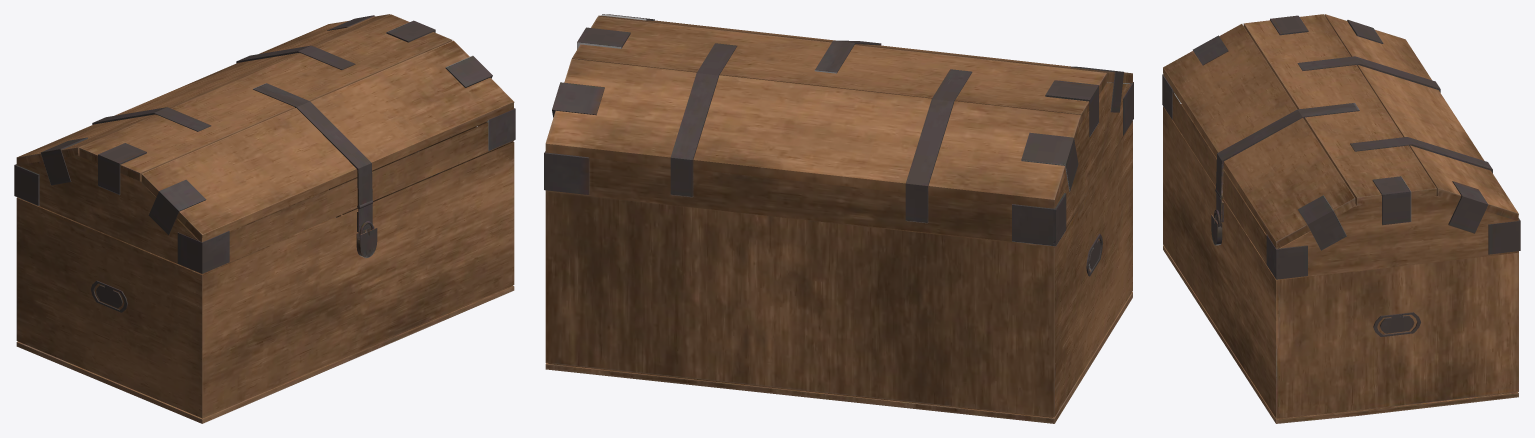
Rendered from Furn_Box.glb.
The picture shows the model from 3 angles, left to right: view 1: azimuth 30°, elevation 25°; view 2: azimuth 150°, elevation 25°; view 3: azimuth 270°, elevation 25°; orthographic projection. The views are drawn at different scales.
Visible parts, largest first — view 1: Furn_Box; view 2: Furn_Box; view 3: Furn_Box.
Part boxes in pixels (x1,y1,x2,y2): Furn_Box: [14, 14, 515, 423]; Furn_Box: [544, 14, 1133, 423]; Furn_Box: [1162, 14, 1520, 423].
Size of the model in its own units: 0.8298 by 0.4162 by 0.6162.
Materials: 1 (1 with a texture image).
